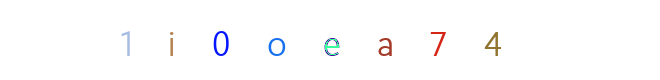0: (230, 0, 310, 80)
1: (164, 0, 244, 80)
4: (373, 0, 453, 80)
7: (363, 0, 443, 80)
A: (335, 0, 415, 80)
E: (291, 0, 371, 80)
I: (201, 0, 281, 80)
O: (290, 0, 370, 80)
